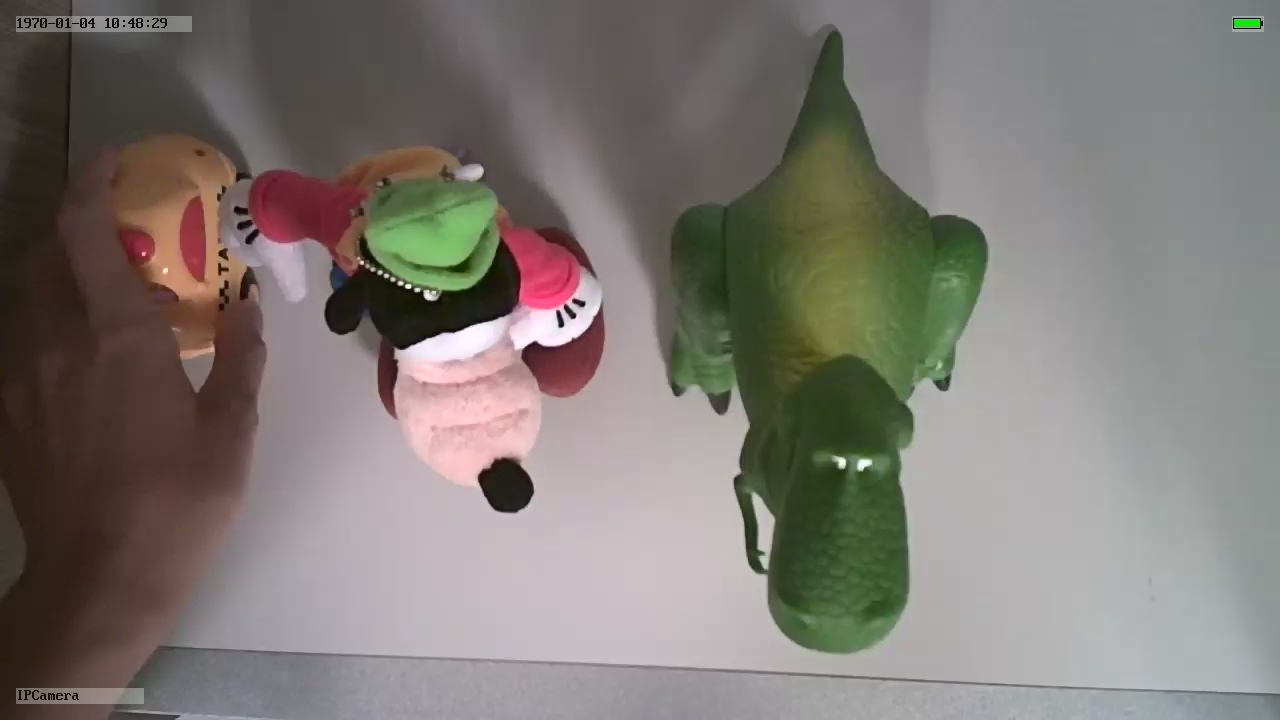rex: (666, 117, 992, 655)
